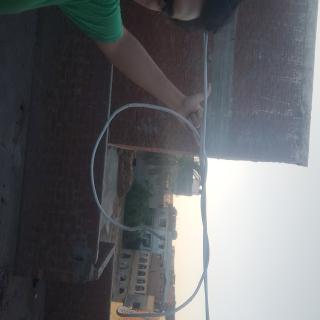YA: (61, 138, 109, 195)
